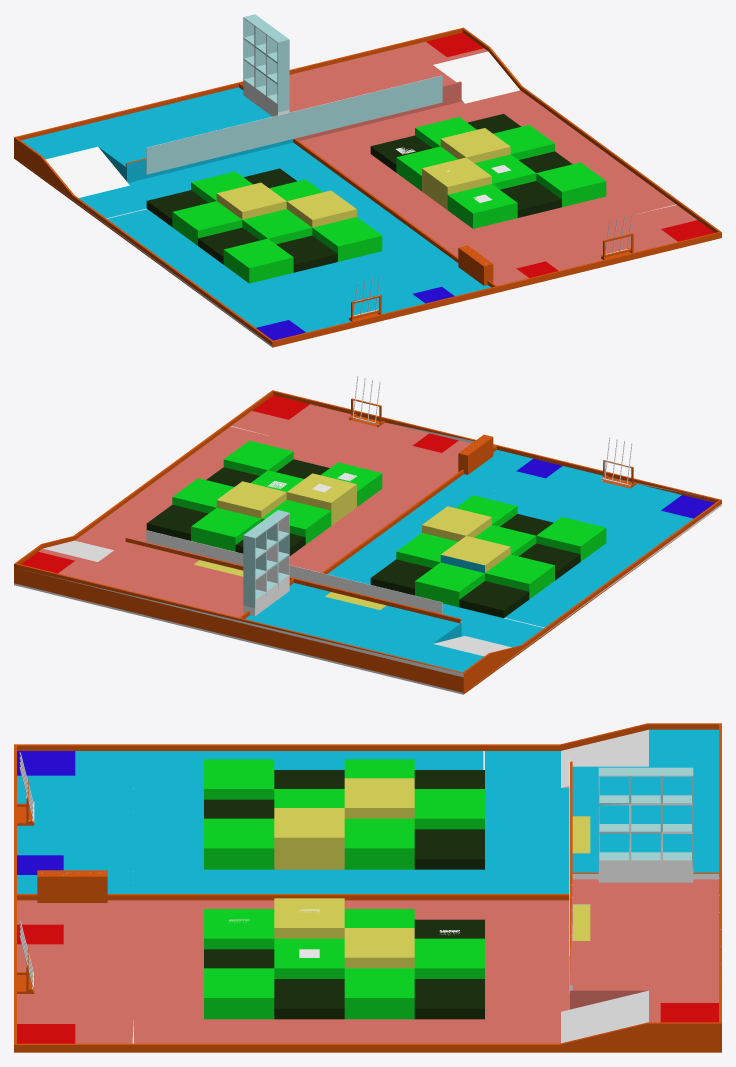
The model's file is sanbong_raw.dae.
3 views of the same model, one above another, from view 1: azimuth 30°, elevation 25°; view 2: azimuth 150°, elevation 25°; view 3: azimuth 270°, elevation 25° (orthographic). The views are drawn at different scales.
Visible parts, largest first — view 1: Game Field Robocon 2026; view 2: Game Field Robocon 2026; view 3: Game Field Robocon 2026.
Boxes of the visible parts, x1,y1,x2,y2 form: Game Field Robocon 2026: (14, 14, 721, 347); Game Field Robocon 2026: (14, 376, 721, 694); Game Field Robocon 2026: (14, 723, 721, 1052).
Bounding box in the file's own units: 12.15 × 12.1 × 2.47.
